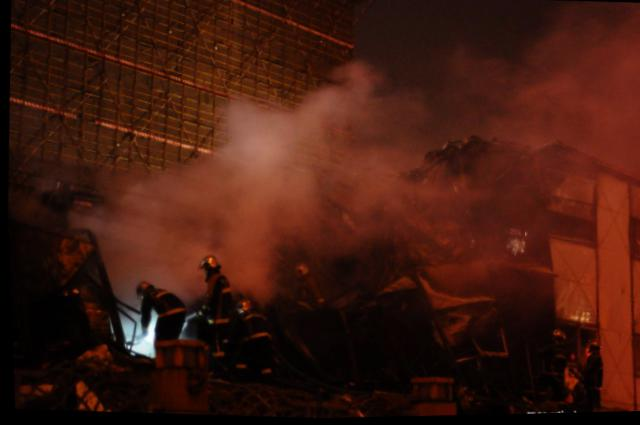smoke: (217, 132, 276, 265), (579, 38, 639, 138), (112, 210, 180, 272), (135, 174, 218, 212), (275, 162, 317, 233), (313, 91, 362, 115)
